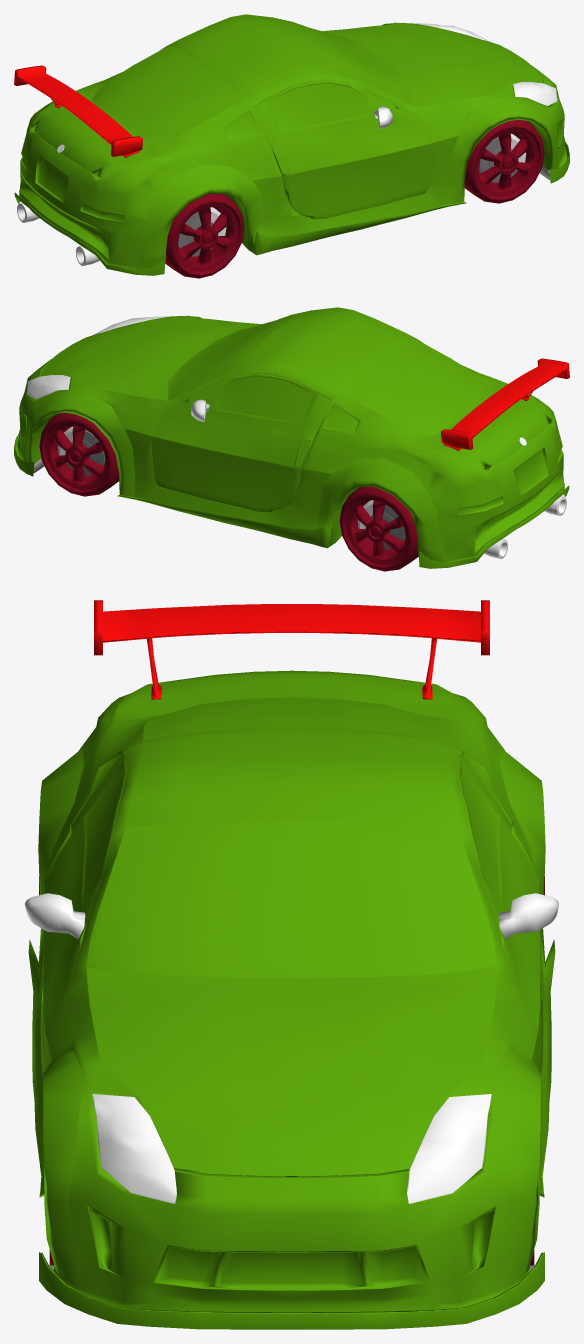
The model's file is CocheParaTex.fbx.
3 renders of one model, top to bottom at view 1: azimuth 30°, elevation 25°; view 2: azimuth 150°, elevation 25°; view 3: azimuth 270°, elevation 25°, orthographic. The views are drawn at different scales.
Visible parts, largest first — view 1: Chasis3, Rueda_Trasera_Der, Rueda_Delantera_Der, Aleron2, Faros_Del, Tubos, Disco_Delantero_Der, Disco_Trasero_Der; view 2: Chasis3, Rueda_Trasera_Izq, Rueda_Delantera_Izq, Aleron2, Faros_Del, Tubos, Disco_Delantero_Izq, Disco_Trasero_Izq; view 3: Chasis3, Aleron2, Faros_Del, REtrovisores.
Part boxes in pixels (x1,y1,x2,y2): Chasis3: (14, 14, 569, 275); Rueda_Trasera_Der: (165, 194, 244, 278); Rueda_Delantera_Der: (464, 120, 544, 203); Aleron2: (14, 65, 142, 157); Faros_Del: (415, 23, 557, 105); Tubos: (17, 203, 99, 265); Disco_Delantero_Der: (478, 137, 517, 182); Disco_Trasero_Der: (178, 212, 219, 256); Chasis3: (14, 307, 569, 568); Rueda_Trasera_Izq: (339, 487, 418, 571); Rueda_Delantera_Izq: (39, 413, 119, 496); Aleron2: (441, 358, 569, 450); Faros_Del: (26, 316, 167, 398); Tubos: (484, 496, 566, 558); Disco_Delantero_Izq: (66, 430, 105, 475); Disco_Trasero_Izq: (364, 505, 405, 549); Chasis3: (28, 670, 555, 1329); Aleron2: (94, 600, 489, 699); Faros_Del: (92, 1094, 491, 1203); REtrovisores: (24, 893, 559, 939).
Size of the model in its own units: 8.46 by 2.67 by 3.96.
